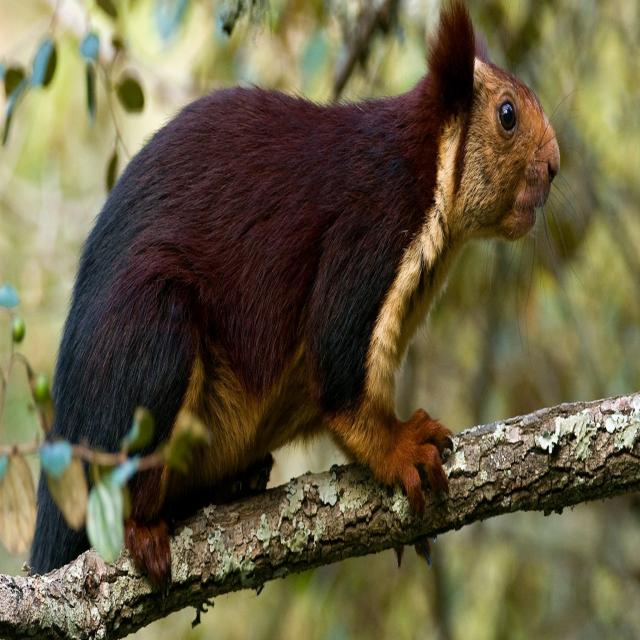Squirrel: (35, 39, 566, 576)
